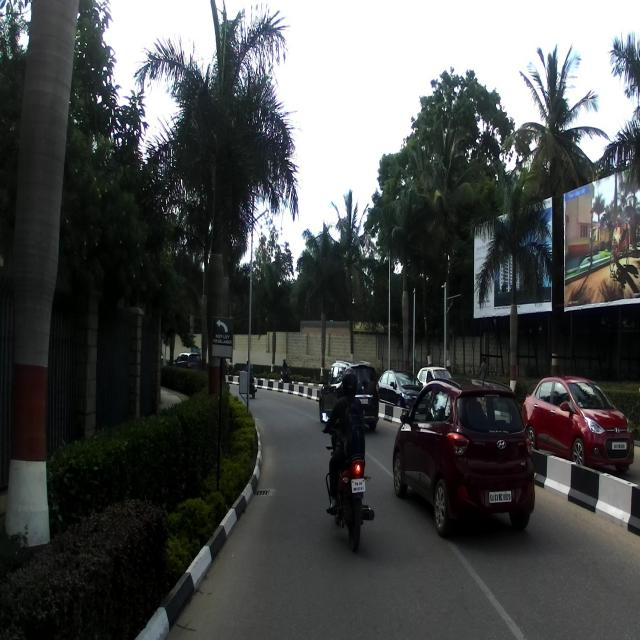car: (390, 377, 534, 541), (522, 374, 635, 476), (319, 356, 379, 432)
